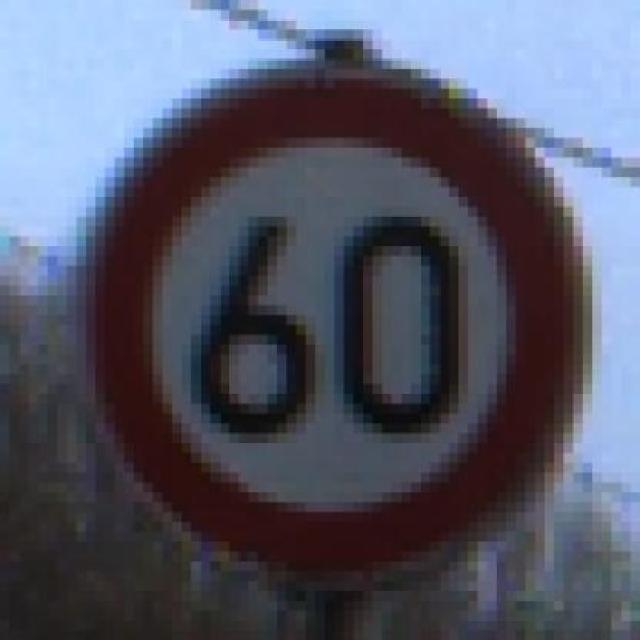forb_speed_over_60: (97, 76, 551, 570)
